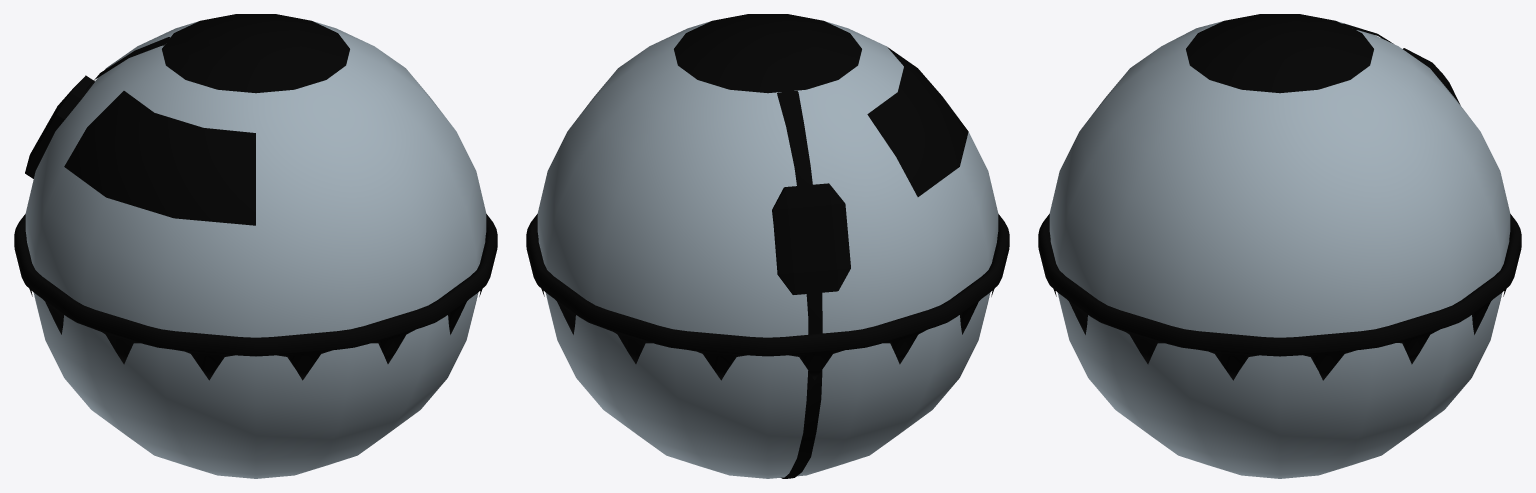
Rendered from core 1.fbx.
The picture shows the model from 3 angles, left to right: view 1: azimuth 30°, elevation 25°; view 2: azimuth 150°, elevation 25°; view 3: azimuth 270°, elevation 25°; orthographic projection.
Parts seen in each view (by area): view 1: polySurface6; view 2: polySurface6; view 3: polySurface6.
Part boxes in pixels (x1,y1,x2,y2): polySurface6: [14, 14, 497, 478]; polySurface6: [526, 14, 1009, 478]; polySurface6: [1038, 14, 1521, 478].
Bounding box in the file's own units: 2.07 × 2 × 2.08.
